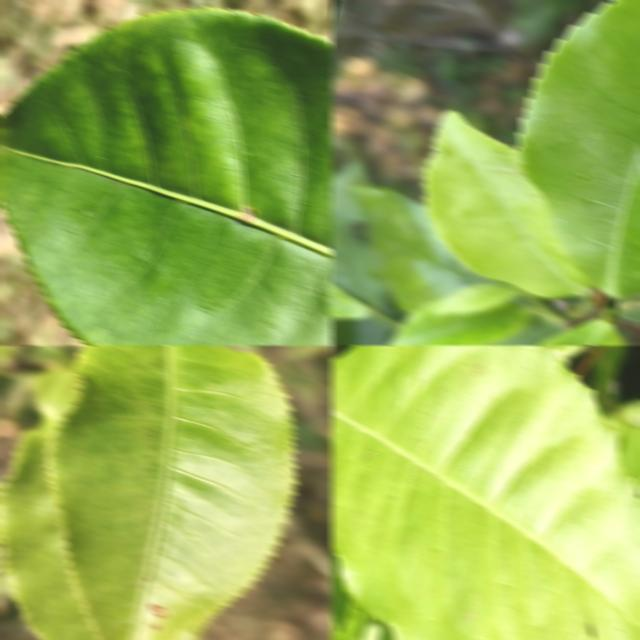Leaf: (0, 7, 334, 345), (330, 345, 640, 640), (47, 345, 296, 640), (518, 0, 640, 296), (424, 110, 592, 297), (0, 371, 98, 640), (350, 185, 480, 311), (330, 161, 389, 307), (387, 299, 530, 345), (435, 281, 521, 315)
